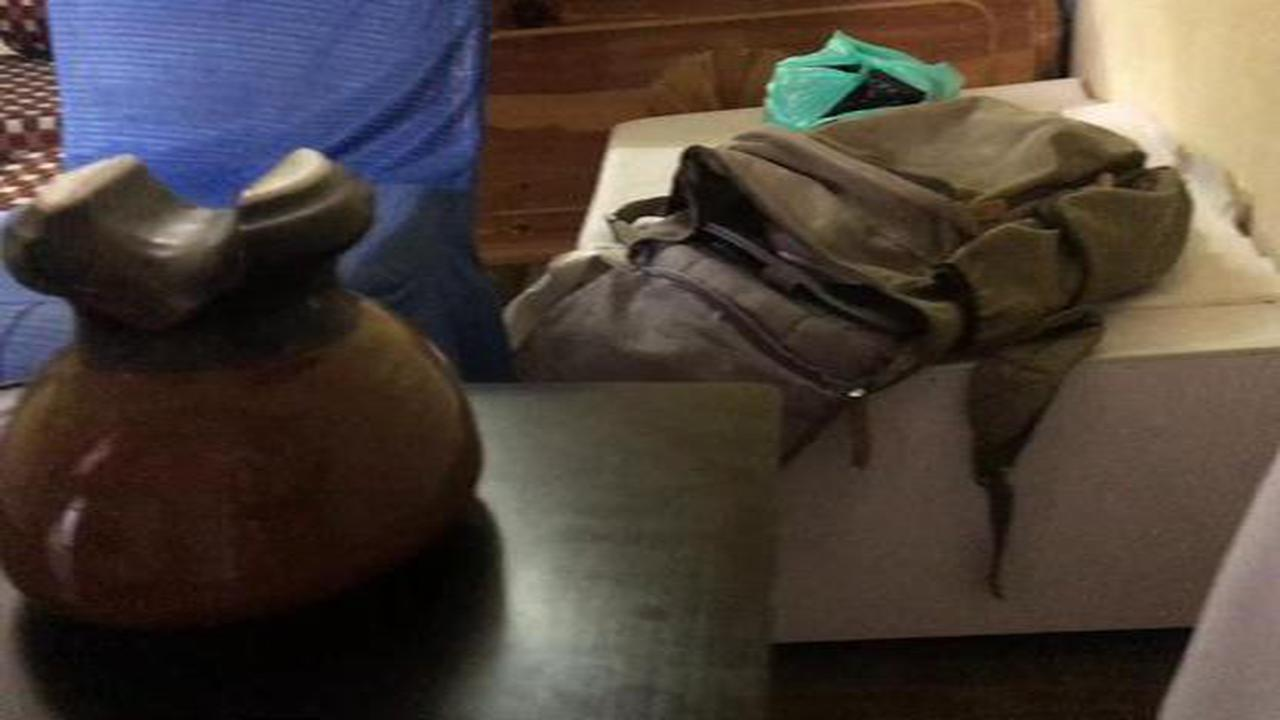insulator_pin: (10, 131, 502, 641)
